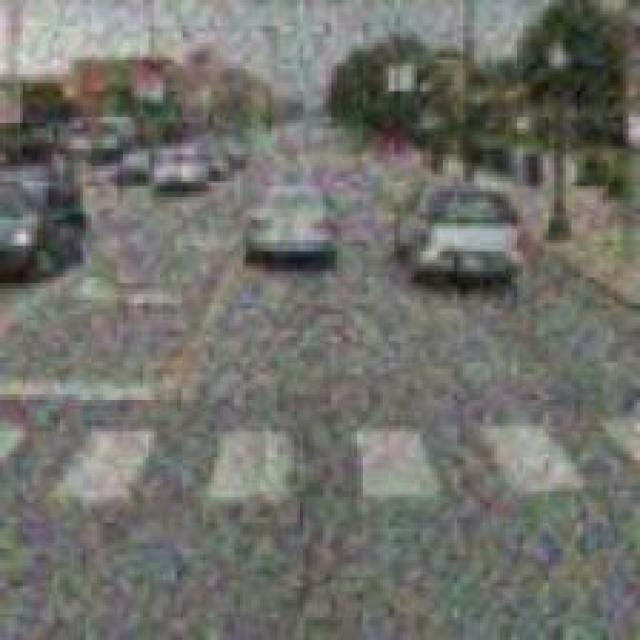walk-crossing: (4, 416, 640, 493)
